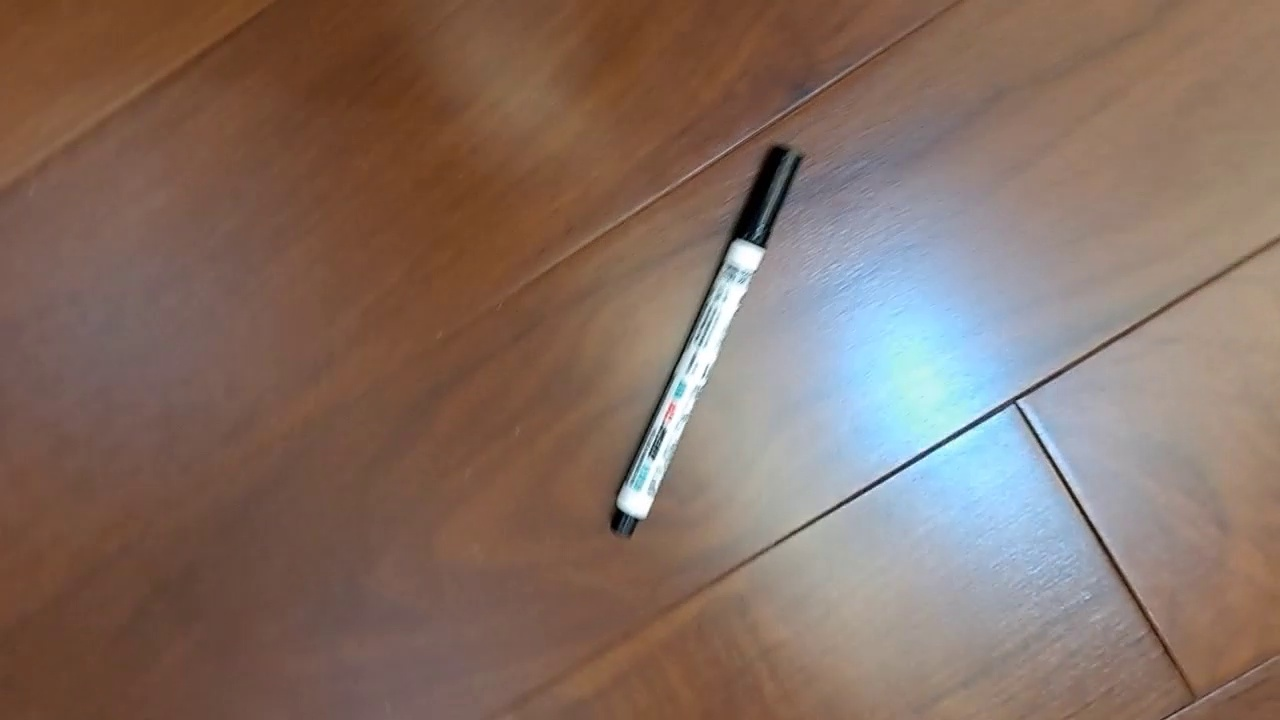pen: (609, 141, 807, 540)
